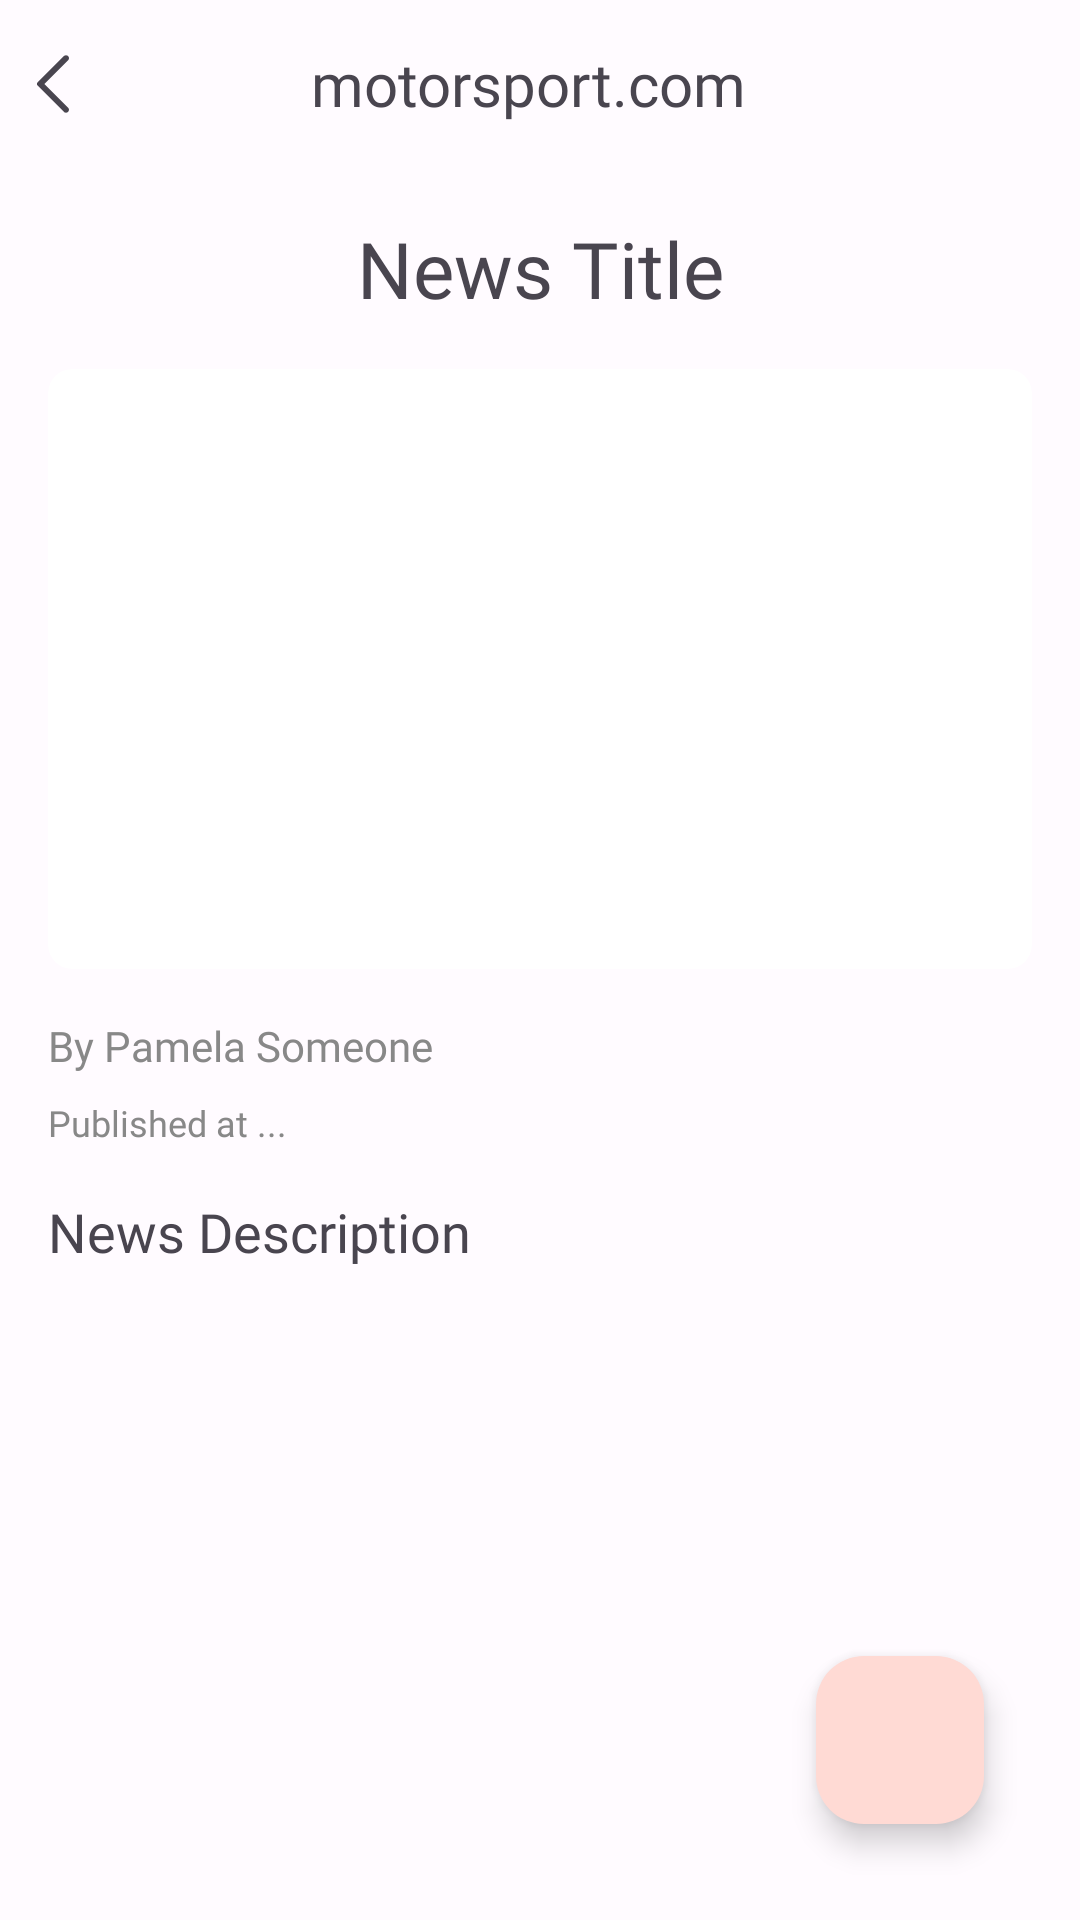

Icons on this 1080 × 1920 Android screen, each with the point to tap as point (x, y):
back: point (53, 84)
